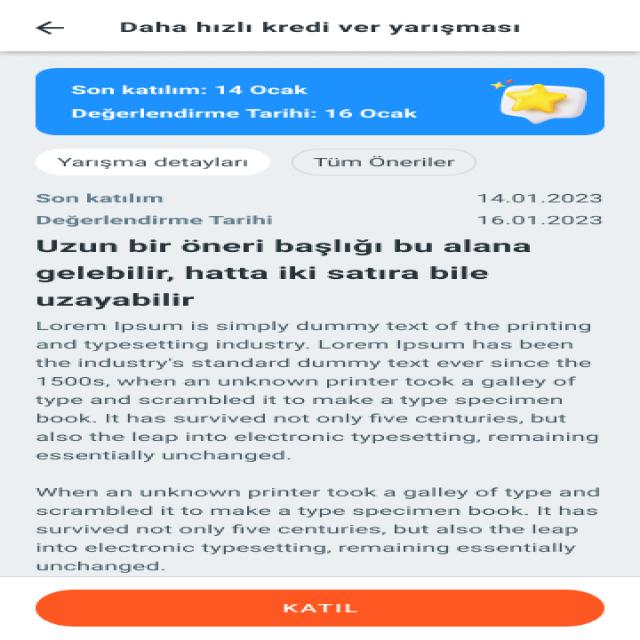QLabel: (23, 319, 610, 465), (20, 484, 615, 574), (20, 233, 540, 310), (104, 21, 522, 35), (67, 106, 420, 122), (27, 213, 279, 228), (72, 84, 308, 96), (52, 156, 250, 169), (473, 212, 609, 228), (314, 154, 460, 168), (28, 193, 177, 206), (471, 193, 603, 205), (279, 603, 359, 613)
VAppBar: (0, 1, 640, 53)
VBtn: (33, 589, 614, 628)
VCard: (32, 68, 608, 136)
VChip: (34, 147, 272, 178), (292, 148, 478, 176)
VFooter: (0, 577, 640, 640)
VIcon: (18, 13, 78, 43)
VImg: (488, 74, 592, 127)
